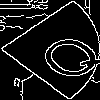Q: (24, 25, 100, 87)
